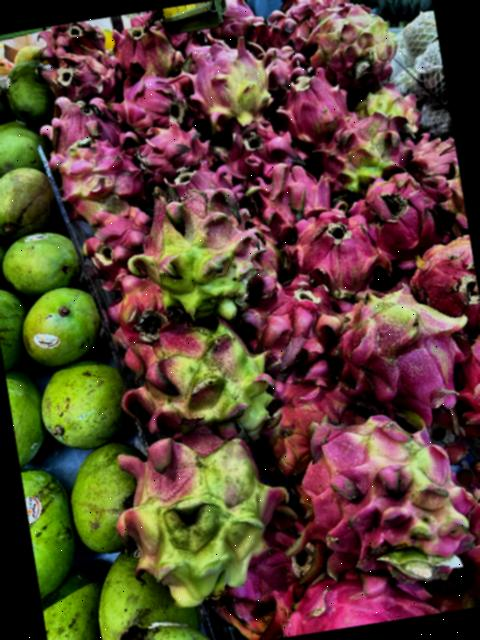buah-naga-belum-matang: (105, 418, 305, 612), (291, 392, 480, 594), (115, 302, 282, 453), (334, 276, 480, 438), (130, 174, 270, 332), (180, 32, 282, 134), (46, 130, 152, 228), (310, 110, 408, 204), (304, 1, 403, 94), (348, 75, 434, 147), (108, 13, 186, 84), (102, 270, 171, 342), (454, 460, 480, 606), (401, 127, 461, 187)
buah-naga-matang: (252, 356, 375, 471), (281, 556, 446, 636), (275, 204, 397, 304), (238, 268, 347, 370), (350, 170, 447, 268), (397, 236, 480, 335), (240, 155, 338, 237), (36, 86, 128, 161), (108, 67, 196, 137), (274, 68, 352, 146), (76, 200, 152, 280), (37, 48, 126, 112), (218, 119, 308, 182), (129, 118, 216, 178), (34, 18, 108, 62)
